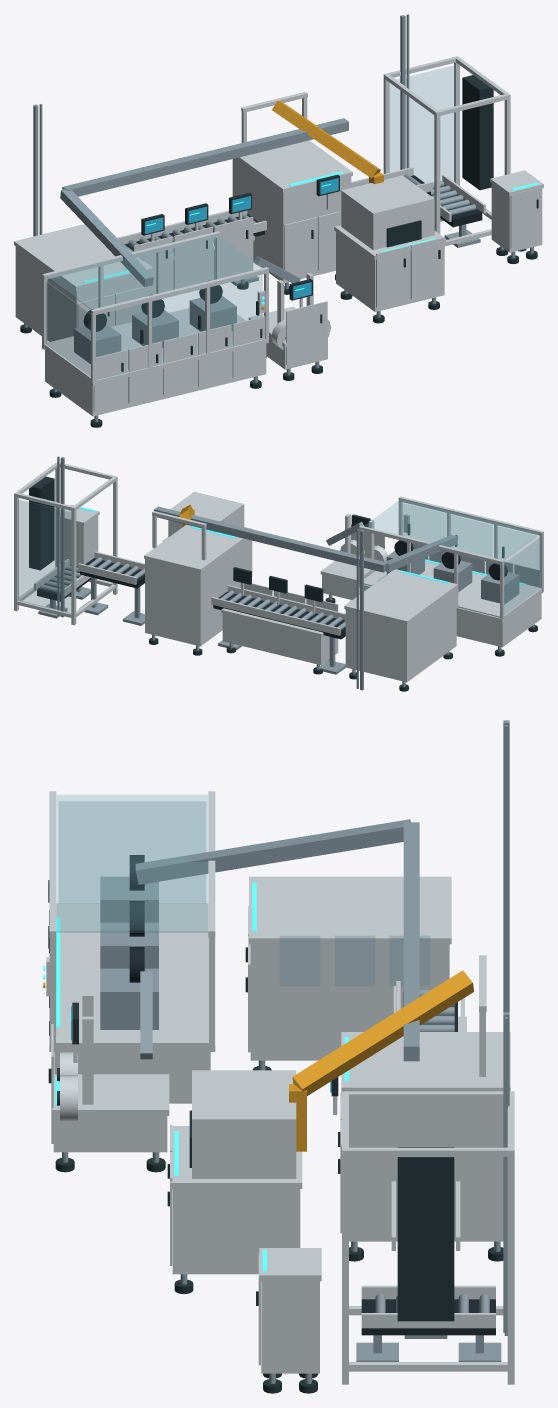
File: packaging-line.glb
3 renders of one model, top to bottom at view 1: azimuth 30°, elevation 25°; view 2: azimuth 150°, elevation 25°; view 3: azimuth 270°, elevation 25°, orthographic. The views are drawn at different scales.
Visible parts, largest first — view 1: Service door (×16), Top cover (×5), Glass top, Transparent guard door (×3), Palletizer rear panel, Rear wrapping cabinet, Transfer hood, Left return machine, Elevated conveyor bridge, Internal packaging head (×3), Vertical lift carriage, Side glass (+15 smaller); view 2: Top cover (×6), Rear wrapping cabinet, Left return machine, Palletizer rear panel, Glass top, Transparent guard door (×3), Inspection station base, Conveyor side rail (×4), Elevated conveyor bridge, Main packaging base, Vertical lift carriage, Palletizer frame post (×4) (+14 smaller); view 3: Top cover (×6), Glass top, Left return machine, Rear wrapping cabinet, Side glass, Transfer hood, Right transfer cabinet, Vertical lift carriage, Internal packaging head (×3), Elevated return rail, Electrical cabinet, Return inspection window (×3) (+16 smaller).
Boxes of the visible parts, x1,y1,x2,y2 form: Service door (×16): (77,187,542,411); Top cover (×5): (14,140,543,381); Glass top: (47,235,262,309); Transparent guard door (×3): (96,275,262,369); Palletizer rear panel: (390,65,455,182); Rear wrapping cabinet: (232,158,351,283); Transfer hood: (341,175,434,250); Left return machine: (15,246,151,341); Elevated conveyor bridge: (62,118,348,196); Internal packaging head (×3): (74,296,236,363); Vertical lift carriage: (462,75,493,190); Side glass: (46,282,90,376); Top cover (×6): (60,504,541,637); Rear wrapping cabinet: (145,542,241,646); Left return machine: (345,588,456,682); Palletizer rear panel: (18,499,70,613); Glass top: (364,499,539,559); Transparent guard door (×3): (403,503,539,586); Inspection station base: (222,613,338,664); Conveyor side rail (×4): (78,551,345,635); Elevated conveyor bridge: (154,506,387,572); Main packaging base: (364,588,541,647); Vertical lift carriage: (29,476,54,570); Palletizer frame post (×4): (14,467,117,625); Top cover (×6): (52,876,510,1281); Glass top: (57,795,207,932); Left return machine: (250,944,449,1060); Rear wrapping cabinet: (349,1101,503,1241); Side glass: (59,801,205,903); Transfer hood: (192,1070,296,1178); Right transfer cabinet: (172,1189,300,1274); Vertical lift carriage: (397,1147,454,1321); Internal packaging head (×3): (100,876,158,1029); Elevated return rail: (135,819,410,884); Electrical cabinet: (261,1281,319,1373); Return inspection window (×3): (280,935,429,985).
Size of the model in its own units: 10.25 by 3.85 by 4.98.
